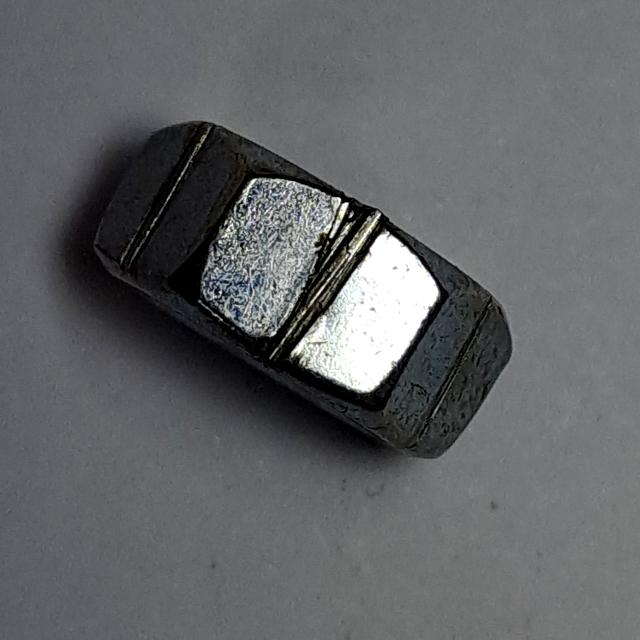Side_Scratches: (83, 109, 527, 475)
